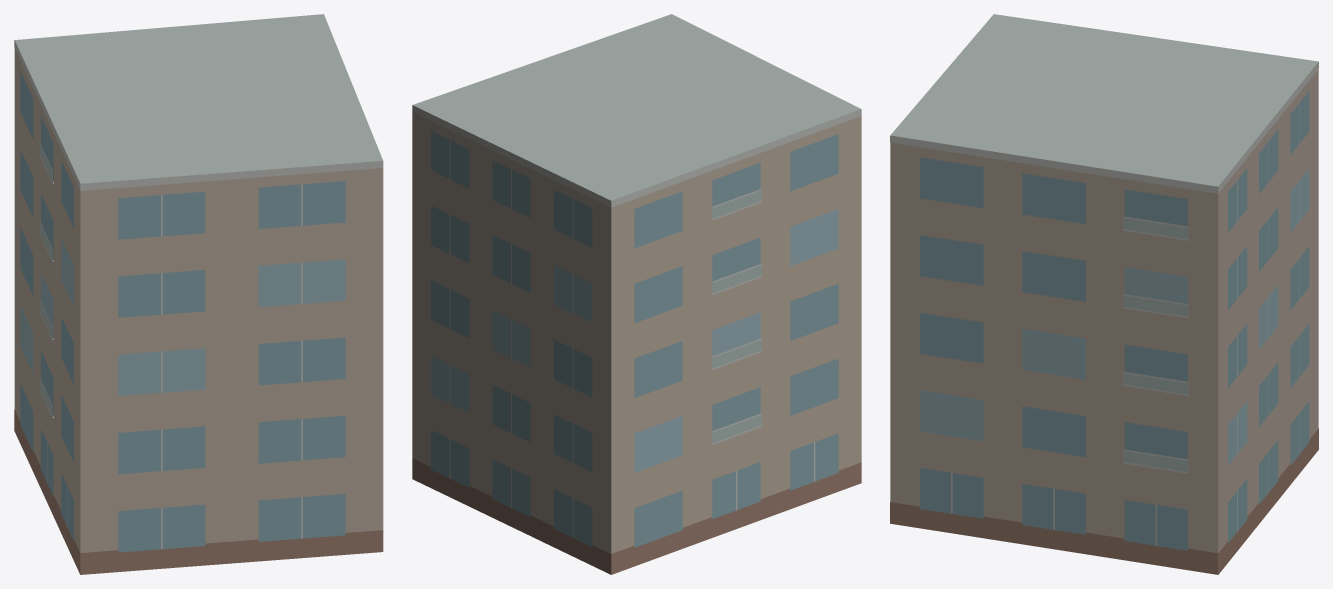
The model's file is survey-upis-32886762.glb.
3 views of the same model, side by side, from view 1: azimuth 30°, elevation 25°; view 2: azimuth 150°, elevation 25°; view 3: azimuth 270°, elevation 25° (orthographic). The views are drawn at different scales.
Visible parts, largest first — view 1: survey-upis-32886762.tmp; view 2: survey-upis-32886762.tmp; view 3: survey-upis-32886762.tmp.
Part boxes in pixels (x1,y1,x2,y2): survey-upis-32886762.tmp: (14, 14, 383, 574); survey-upis-32886762.tmp: (412, 14, 861, 574); survey-upis-32886762.tmp: (890, 14, 1318, 574).
Size of the model in its own units: 12.7 by 13.3 by 13.32.
